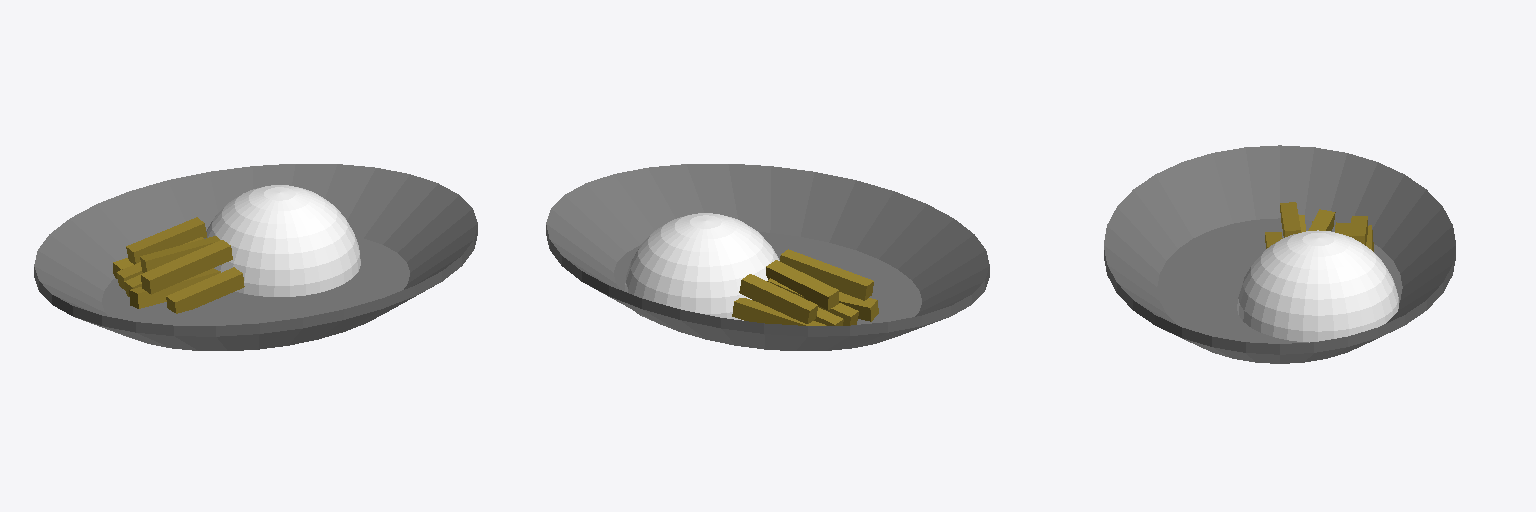
Rendered from rice2_meat3_veg0.obj.
The picture shows the model from 3 angles: view 1: azimuth 30°, elevation 25°; view 2: azimuth 150°, elevation 25°; view 3: azimuth 270°, elevation 25°; orthographic projection.
Visible parts, largest first — view 1: Cylinder, Sphere, Cube.007, Cube.004_Cube.005, Cube.005_Cube.000, Cube.002_Cube.003, Cube.006; view 2: Cylinder, Sphere, Cube.007, Cube.005_Cube.000, Cube.006, Cube.003_Cube.004, Cube.002_Cube.003, Cube.001_Cube.002; view 3: Cylinder, Sphere, Cube.007.
Boxes of the visible parts, x1=… form: Cylinder: x1=34, y1=164, x2=477, y2=350; Sphere: x1=204, y1=185, x2=360, y2=296; Cube.007: x1=141, y1=240, x2=232, y2=294; Cube.004_Cube.005: x1=166, y1=267, x2=244, y2=313; Cube.005_Cube.000: x1=126, y1=217, x2=206, y2=264; Cube.002_Cube.003: x1=129, y1=268, x2=220, y2=308; Cube.006: x1=140, y1=236, x2=219, y2=272; Cylinder: x1=546, y1=164, x2=989, y2=350; Sphere: x1=625, y1=213, x2=779, y2=321; Cube.007: x1=780, y1=249, x2=873, y2=300; Cube.005_Cube.000: x1=739, y1=274, x2=817, y2=323; Cube.006: x1=766, y1=260, x2=838, y2=309; Cube.003_Cube.004: x1=732, y1=298, x2=826, y2=325; Cube.002_Cube.003: x1=839, y1=292, x2=878, y2=321; Cube.001_Cube.002: x1=767, y1=278, x2=858, y2=325; Cylinder: x1=1104, y1=145, x2=1455, y2=363; Sphere: x1=1237, y1=230, x2=1398, y2=342; Cube.007: x1=1280, y1=202, x2=1300, y2=237.
Bounding box in the file's own units: 5.75 × 1.05 × 4.31.